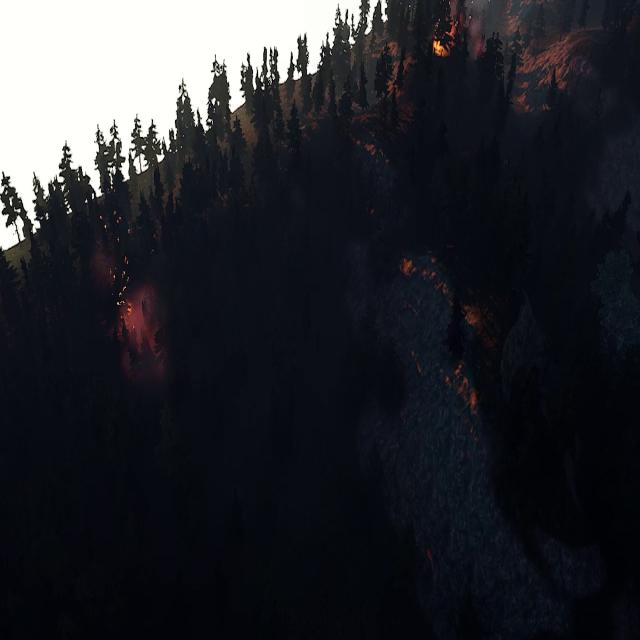fire: (434, 29, 456, 56)
smoke: (118, 287, 168, 396), (467, 8, 485, 58)
